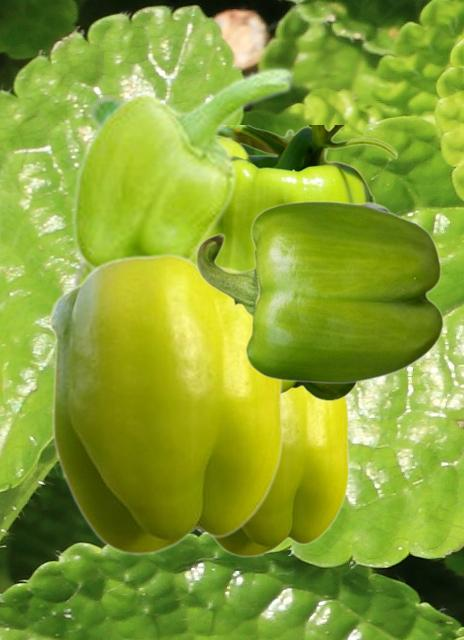bell_pepper: (48, 252, 282, 554), (212, 125, 397, 403), (70, 65, 295, 272), (195, 200, 443, 383), (213, 388, 348, 556), (65, 95, 126, 289)
